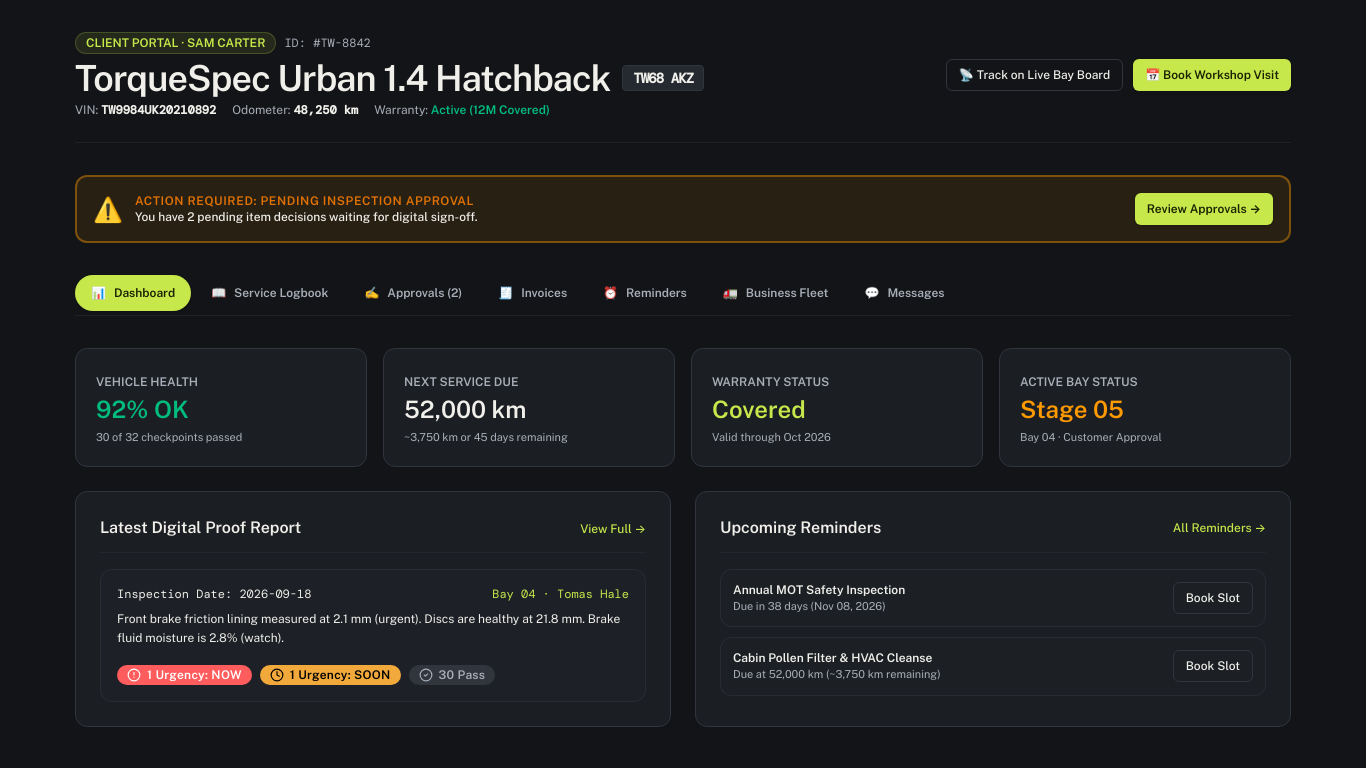
Test: Garage Customer Portal (Feature 06) › renders Business Fleet tab with vehicles table and uptime KPI
Note: Switch to Fleet tab
Step 1. Click the button "🚛 Business Fleet" → (776, 293), box [707,275,844,311]
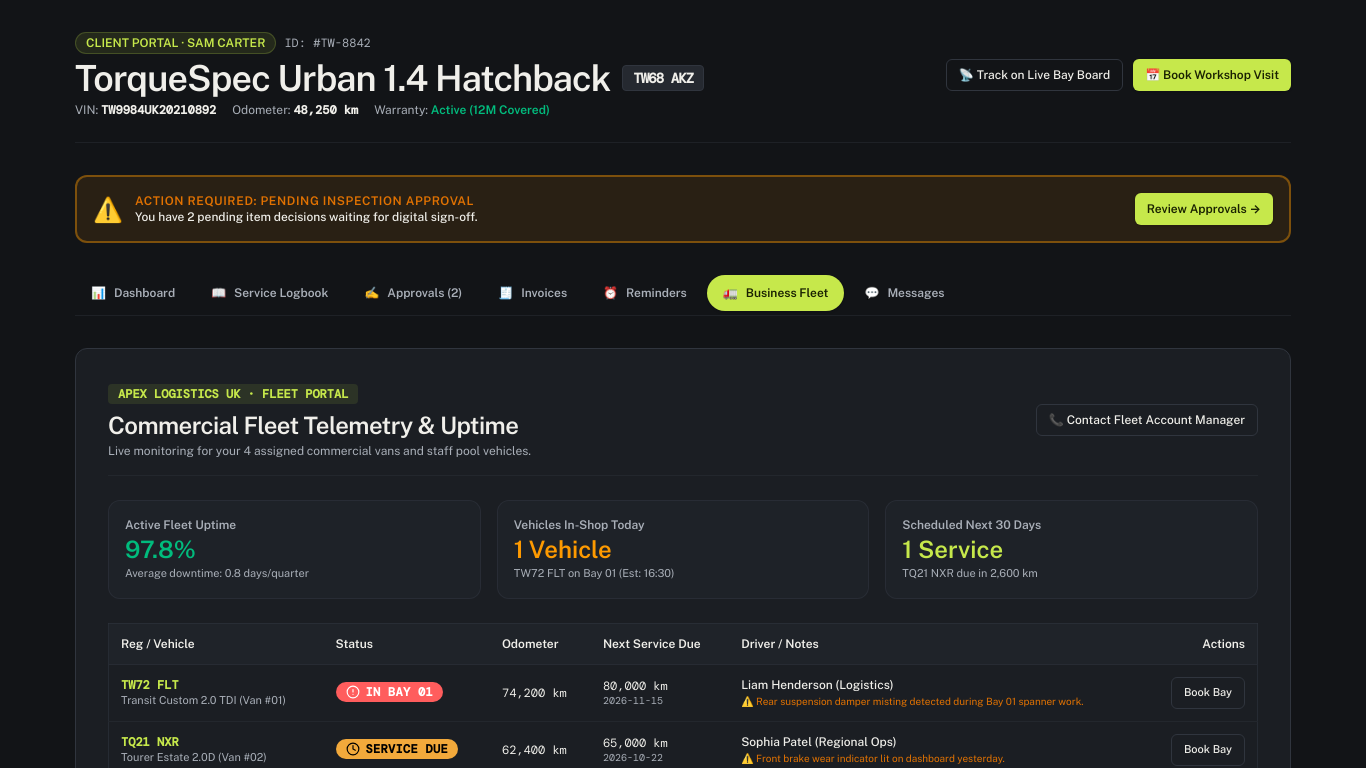
Expected: the heading "Commercial Fleet Telemetry & Uptime" is shown, [108,409,531,441]
Expected: the text "Active Fleet Uptime" is shown, [125,518,236,532]
Expected: the text "TW72 FLT on Bay 01 (Est: 16:30)" is shown, [514,567,674,579]
